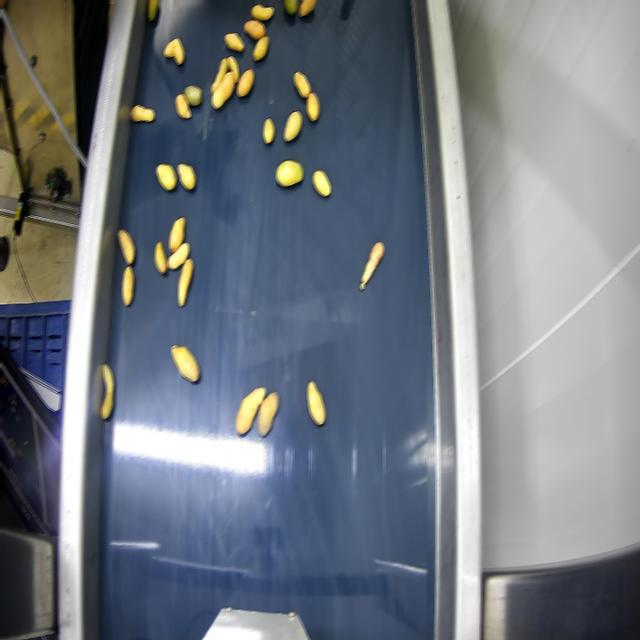Baby Potato: (235, 387, 264, 434), (359, 243, 382, 289), (171, 345, 198, 382), (258, 392, 277, 436), (211, 72, 234, 108), (307, 381, 324, 424), (177, 258, 192, 306), (100, 364, 113, 419), (275, 160, 302, 186), (211, 58, 228, 93), (117, 230, 134, 264), (167, 242, 188, 269), (169, 216, 184, 252), (156, 164, 175, 190), (285, 111, 301, 141), (236, 69, 253, 96), (165, 38, 183, 63), (177, 164, 194, 189), (314, 170, 330, 196), (123, 265, 133, 305), (243, 20, 264, 39), (130, 105, 154, 121), (294, 72, 309, 97), (224, 32, 243, 51), (174, 94, 189, 118), (155, 241, 166, 273), (254, 36, 268, 60), (185, 85, 201, 105), (251, 5, 272, 20), (307, 92, 318, 120), (227, 56, 238, 82), (262, 118, 273, 143), (147, 0, 158, 21), (301, 0, 315, 16), (284, 0, 297, 15)
